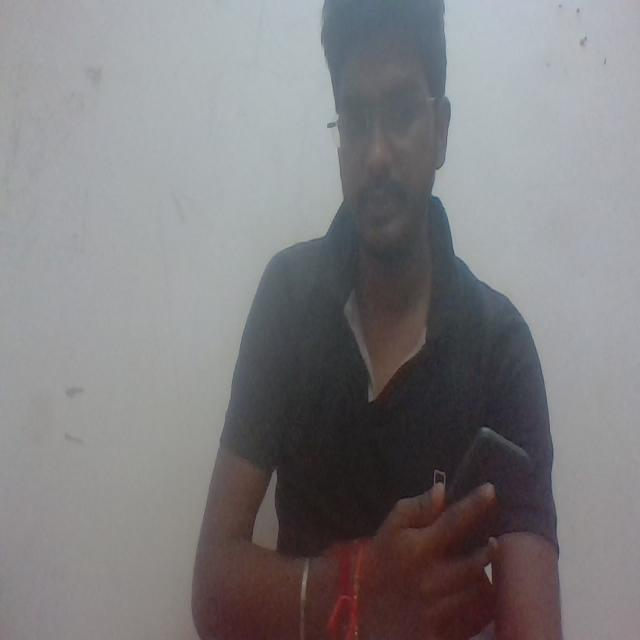Phone: (442, 422, 535, 525)
